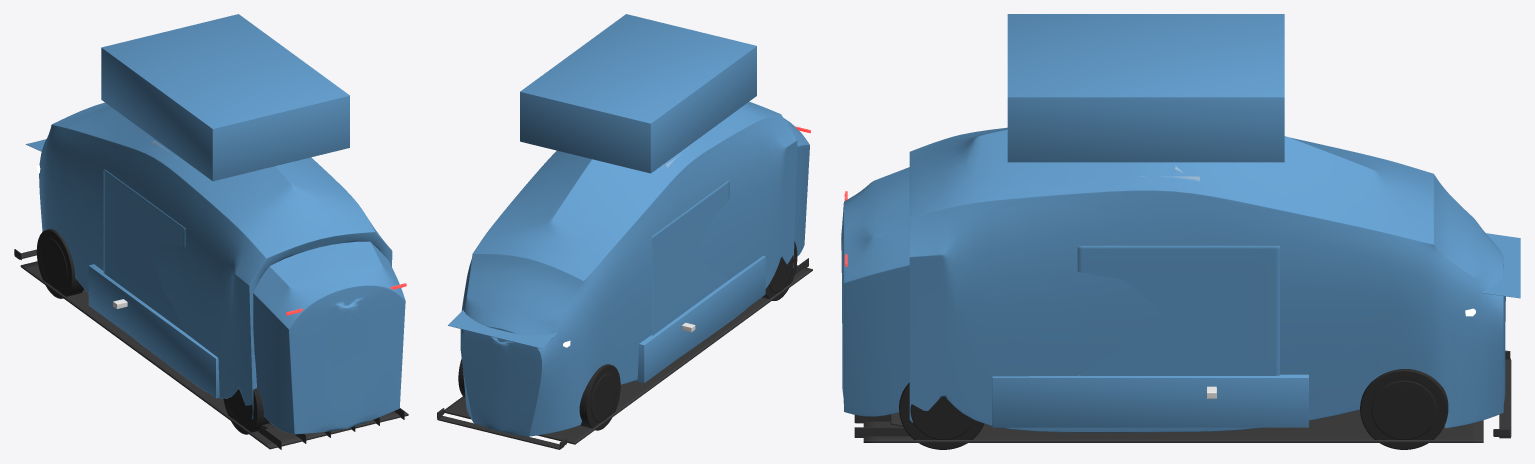
The model's file is vehicle.opt.glb.
The picture shows the model from 3 angles, left to right: view 1: azimuth 30°, elevation 25°; view 2: azimuth 150°, elevation 25°; view 3: azimuth 270°, elevation 25°; orthographic projection. The views are drawn at different scales.
Parts seen in each view (by area): view 1: BODY_MainShell, AERO_VN770_AeroRoof, BODY_Door_FL, AERO_VN770_SideFairings, UNDERBODY_FlatFloor, WHEEL_FL_Tire, WHEEL_RL_Tire; view 2: BODY_MainShell, AERO_VN770_AeroRoof, BODY_Door_FL, AERO_VN770_SideFairings, UNDERBODY_FlatFloor, WHEEL_FL_Tire, BODY_Hood, WHEEL_RL_Tire, AERO_FrontSplitter; view 3: BODY_MainShell, AERO_VN770_AeroRoof, BODY_Door_FR, AERO_VN770_SideFairings, UNDERBODY_FlatFloor, WHEEL_FR_Tire, WHEEL_RR_Tire, BODY_Hood, AERO_FrontSplitter.
Boxes of the visible parts, left/top/right/bottom form: BODY_MainShell: left=39, top=102, right=405, bottom=434; AERO_VN770_AeroRoof: left=101, top=14, right=349, bottom=181; BODY_Door_FL: left=103, top=169, right=185, bottom=332; AERO_VN770_SideFairings: left=88, top=264, right=219, bottom=398; UNDERBODY_FlatFloor: left=20, top=261, right=408, bottom=449; WHEEL_FL_Tire: left=36, top=229, right=83, bottom=298; WHEEL_RL_Tire: left=223, top=388, right=269, bottom=434; BODY_MainShell: left=460, top=101, right=809, bottom=436; AERO_VN770_AeroRoof: left=520, top=14, right=756, bottom=173; BODY_Door_FL: left=652, top=180, right=729, bottom=335; AERO_VN770_SideFairings: left=634, top=256, right=765, bottom=383; UNDERBODY_FlatFloor: left=444, top=258, right=812, bottom=444; WHEEL_FL_Tire: left=579, top=364, right=620, bottom=430; BODY_Hood: left=448, top=310, right=557, bottom=348; WHEEL_RL_Tire: left=762, top=241, right=797, bottom=300; AERO_FrontSplitter: left=437, top=408, right=566, bottom=449; BODY_MainShell: left=841, top=127, right=1505, bottom=432; AERO_VN770_AeroRoof: left=1007, top=14, right=1284, bottom=162; BODY_Door_FR: left=1077, top=245, right=1279, bottom=375; AERO_VN770_SideFairings: left=992, top=374, right=1308, bottom=427; UNDERBODY_FlatFloor: left=854, top=410, right=1483, bottom=442; WHEEL_FR_Tire: left=1360, top=369, right=1448, bottom=449; WHEEL_RR_Tire: left=899, top=382, right=984, bottom=449; BODY_Hood: left=1480, top=233, right=1520, bottom=298; AERO_FrontSplitter: left=1493, top=350, right=1511, bottom=438.
Size of what is drawn, in the model's own units: 2.86 by 4.62 by 8.03.
